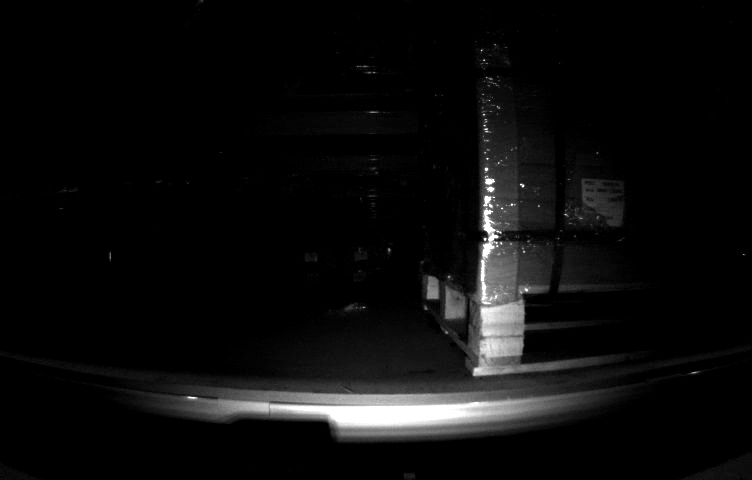True Barcode: (578, 178, 626, 232)
